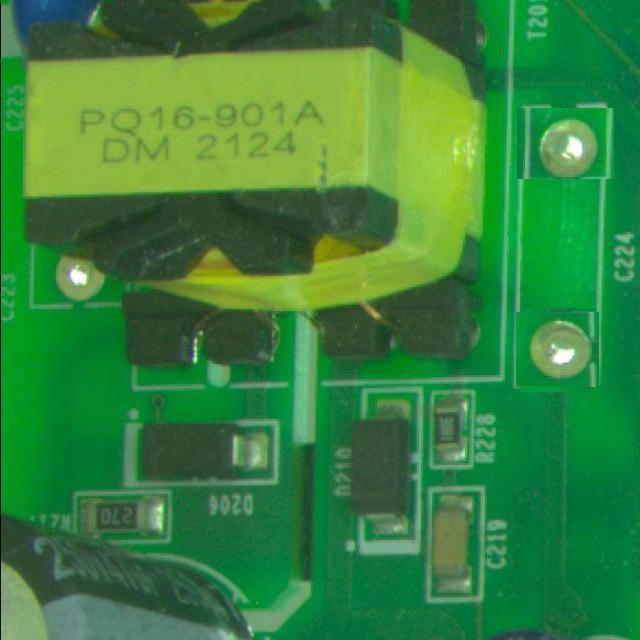lack_of_part: (516, 108, 614, 180), (518, 310, 597, 390)
